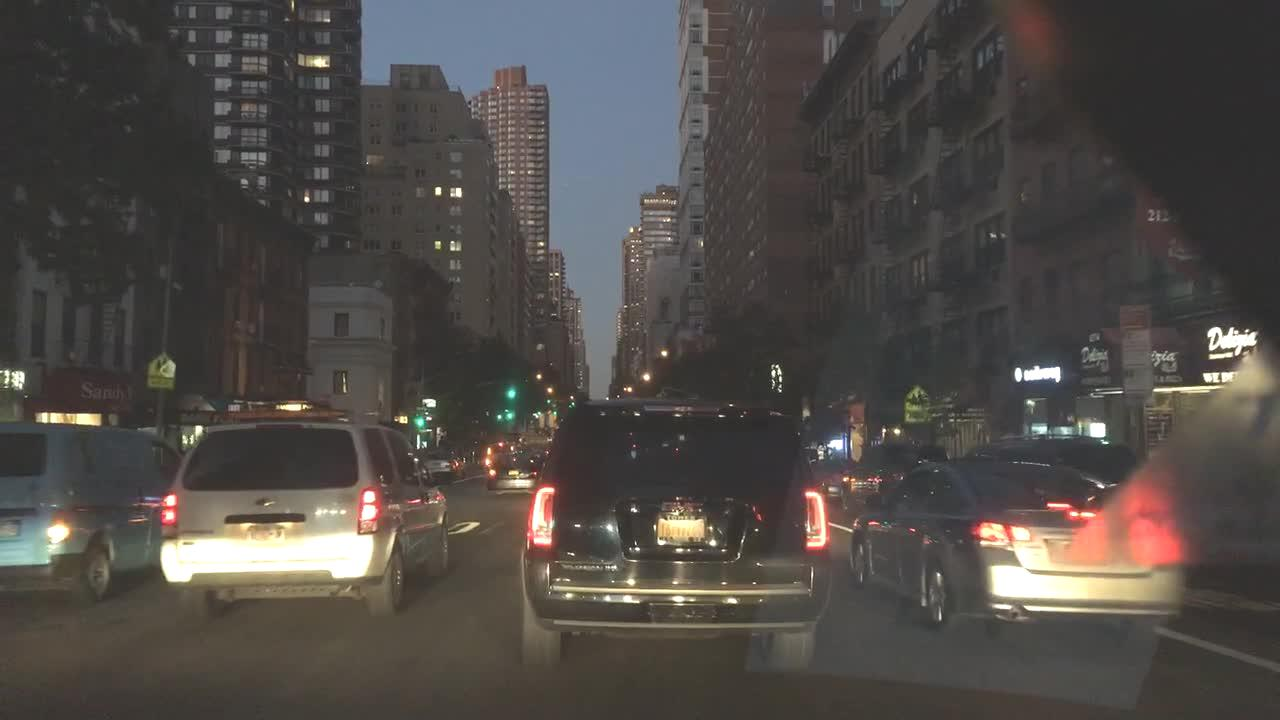chevrolet: (252, 493, 281, 511)
